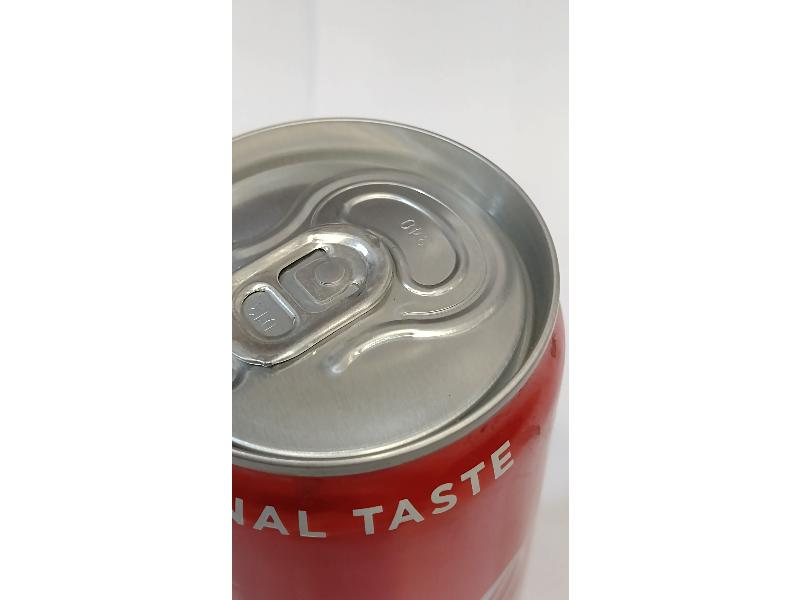can: (233, 111, 570, 600)
